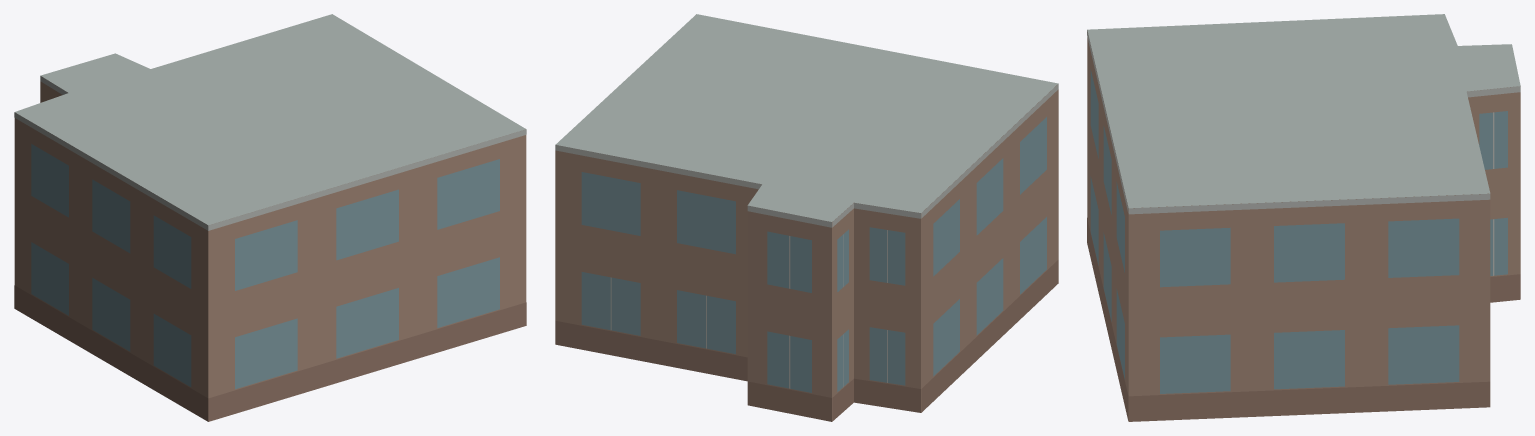
File: survey-upis-32467861.glb
3 renders of one model, left to right at view 1: azimuth 30°, elevation 25°; view 2: azimuth 150°, elevation 25°; view 3: azimuth 270°, elevation 25°, orthographic. The views are drawn at different scales.
Visible parts, largest first — view 1: survey-upis-32467861.tmp; view 2: survey-upis-32467861.tmp; view 3: survey-upis-32467861.tmp.
Boxes of the visible parts, x1,y1,x2,y2 form: survey-upis-32467861.tmp: (14,14,526,421); survey-upis-32467861.tmp: (555,14,1058,421); survey-upis-32467861.tmp: (1087,14,1520,421).
Bounding box in the file's own units: 16.71 × 8.56 × 15.76.
